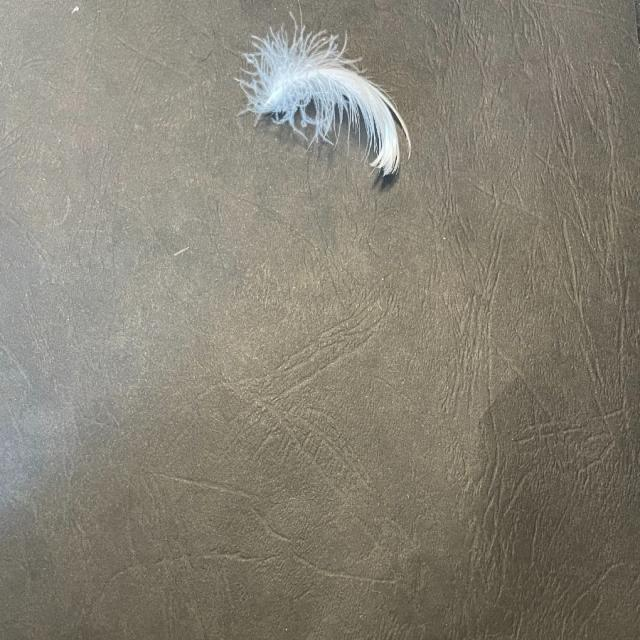feather: (239, 13, 412, 176)
